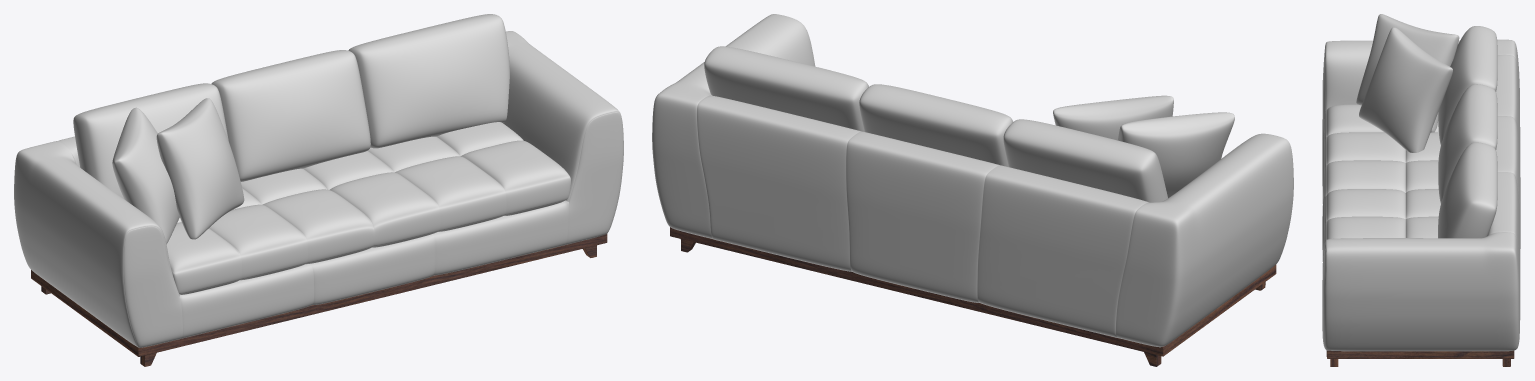
File: SBH_Senart_3Str.glb
The picture shows the model from 3 angles, left to right: view 1: azimuth 30°, elevation 25°; view 2: azimuth 150°, elevation 25°; view 3: azimuth 270°, elevation 25°; orthographic projection. The views are drawn at different scales.
Parts seen in each view (by area): view 1: Senart 3Str; view 2: Senart 3Str; view 3: Senart 3Str.
Boxes of the visible parts, <box> form: Senart 3Str: <box>14,14,623,366</box>; Senart 3Str: <box>652,14,1293,366</box>; Senart 3Str: <box>1322,14,1520,366</box>.
Bounding box in the file's own units: 2.64 × 0.9738 × 1.03.
Materials: 2 (1 with a texture image).
